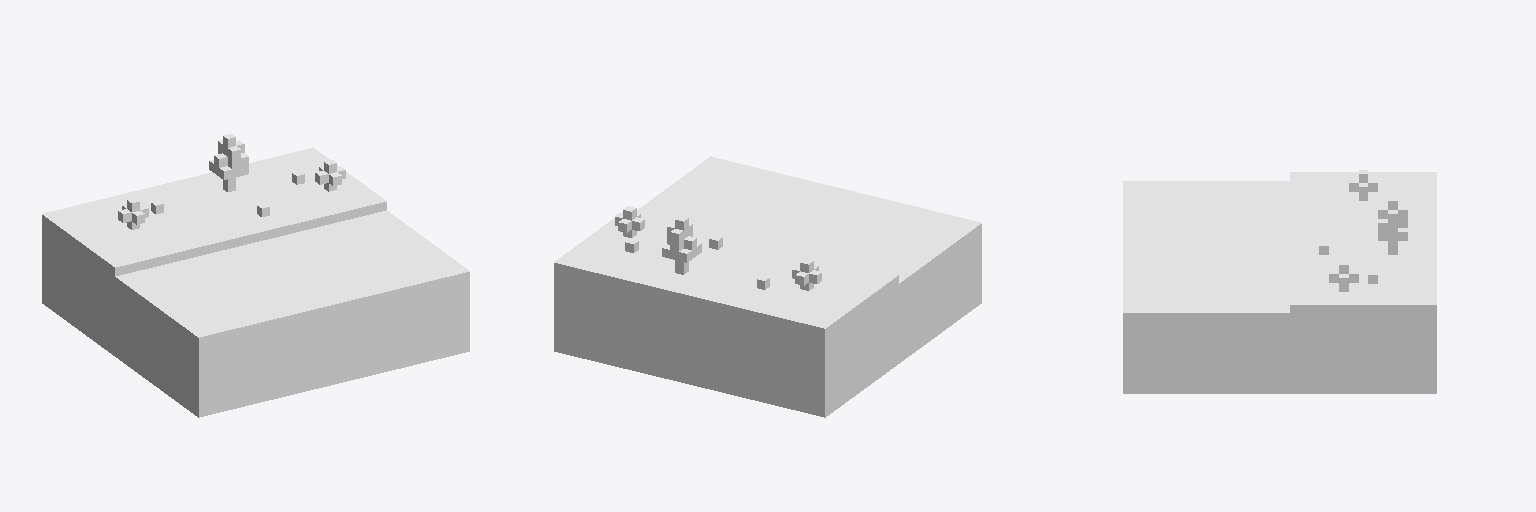
The model's file is SeaShore.obj.
3 views of the same model, side by side, from view 1: azimuth 30°, elevation 25°; view 2: azimuth 150°, elevation 25°; view 3: azimuth 270°, elevation 25° (orthographic).
Parts seen in each view (by area): view 1: object 1; view 2: object 1; view 3: object 1.
Boxes of the visible parts, <box> form: object 1: <box>42,134,469,417</box>; object 1: <box>554,156,981,417</box>; object 1: <box>1123,170,1436,393</box>.
Size of the model in its own units: 3.2 by 1.6 by 3.2.